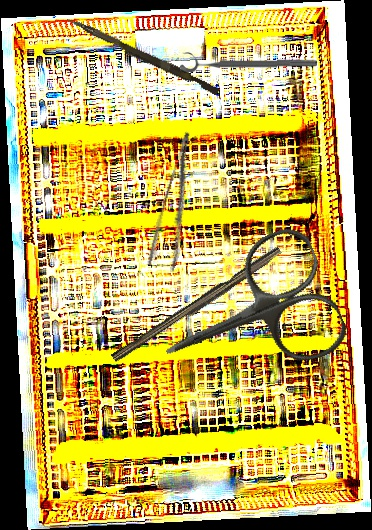Dressing Forceps: (144, 130, 213, 273)
Fixation Ring: (179, 48, 318, 73)
Iris Scissors: (139, 221, 354, 412)
Pusher: (63, 16, 222, 96)
Scalpel Handle: (110, 243, 285, 368)
